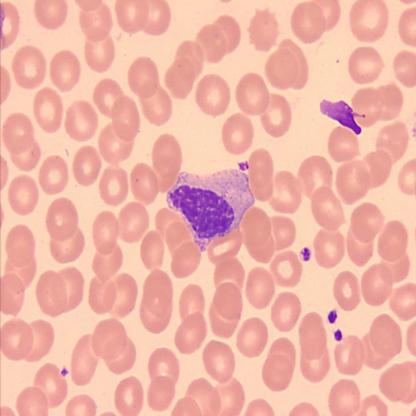Myelocyte: (172, 168, 256, 244)
